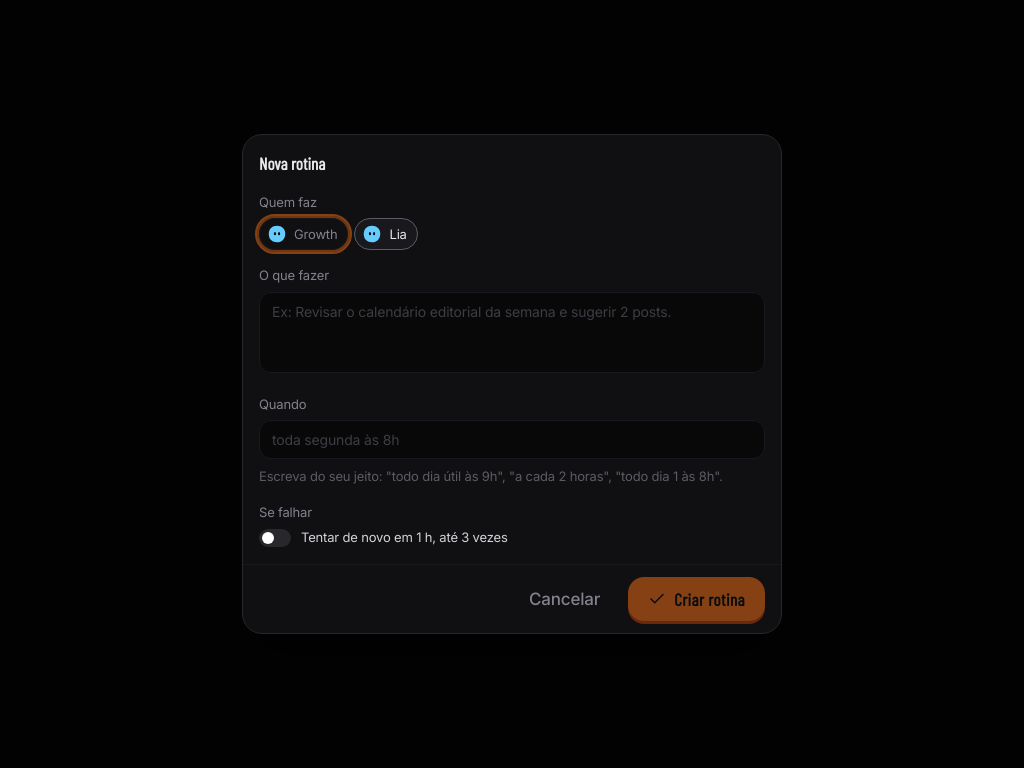
Test: NewRoutine › accepts a raw cron expression
Type "0 9 * * 1-5" into the field labelled "Quando" at (512, 440), box [259, 420, 765, 459]
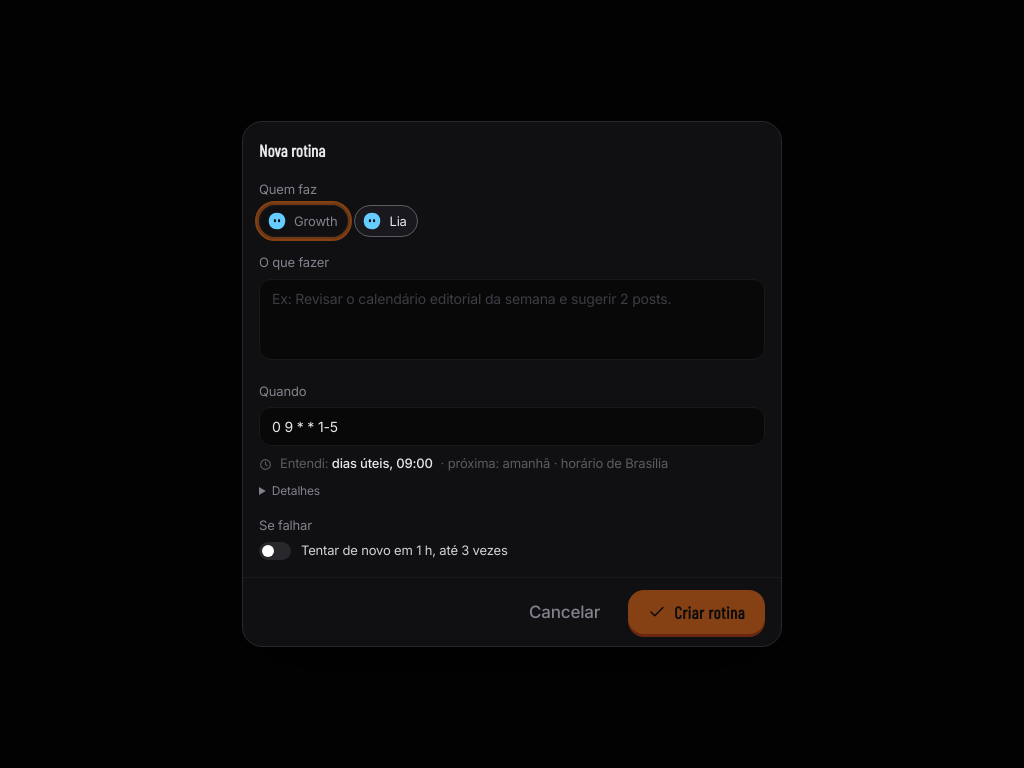
Now the text "dias úteis, 09:00" is shown, box [332, 455, 433, 471]
